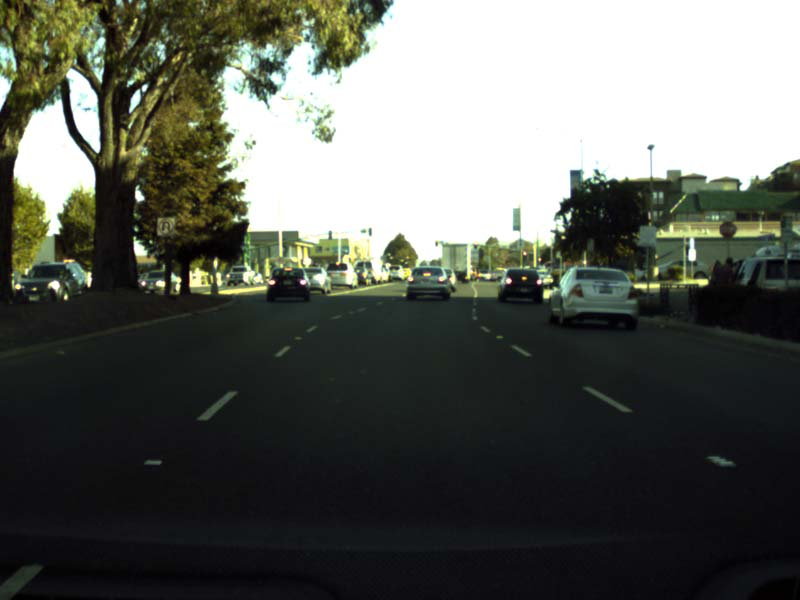Red: (473, 242, 477, 249), (522, 250, 526, 256), (537, 256, 541, 262)
